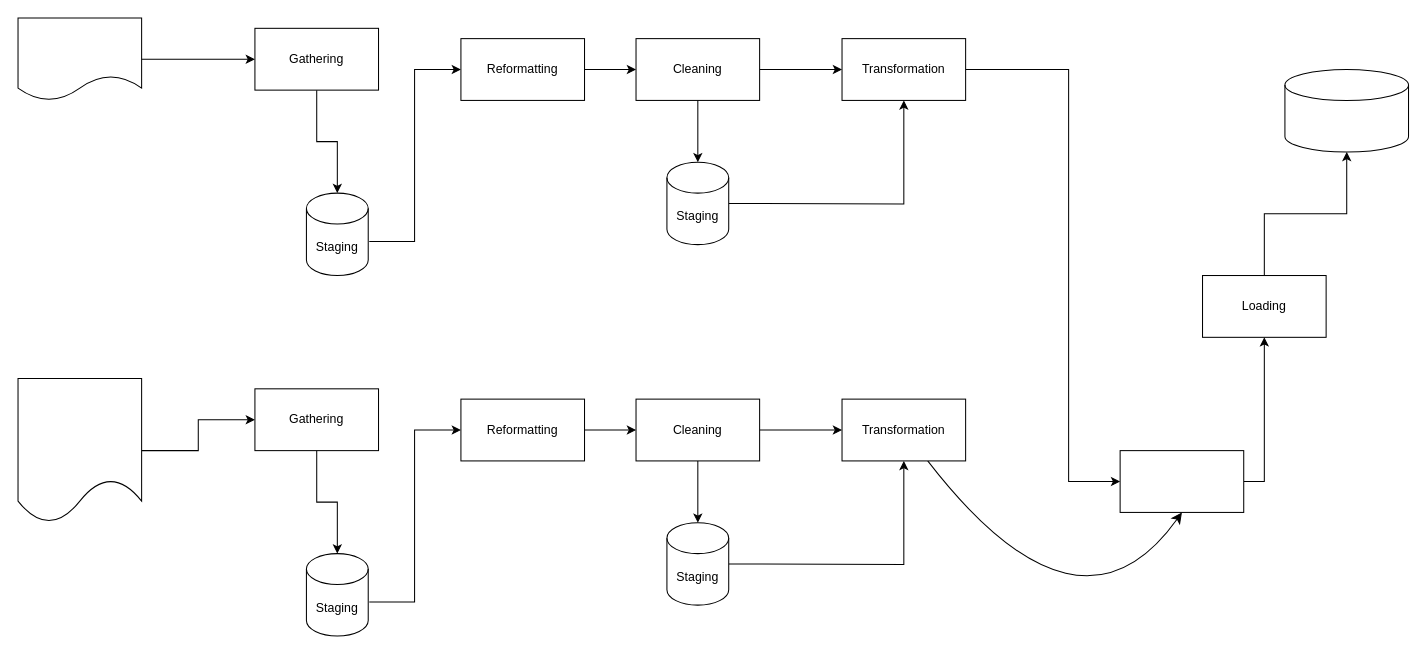
This 1427x654 diagram has some shape labels left out. The shapes that lost their labels are listed below. From the top down, each one's box as (x1, y1, x2, y2) in pixels, then its label:
(17, 17, 142, 100): Source (AviationStack API)
(1284, 68, 1409, 152): Data Warehouse
(17, 377, 142, 523): References(aircrafts, airlines, airplanes,airports, cities,countries)
(1119, 450, 1244, 512): Consolidate
